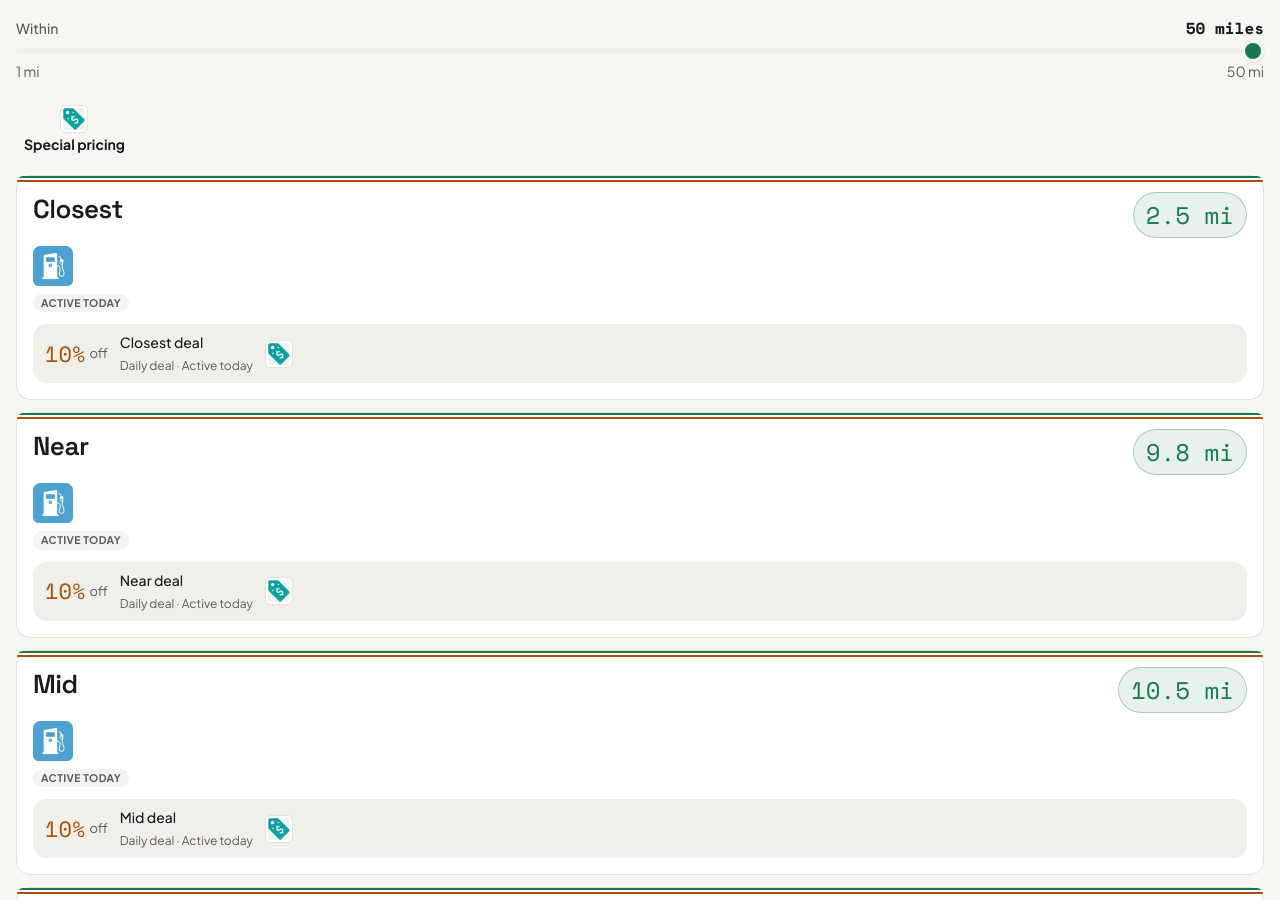
Test: DealFeed › distance filter › narrows the feed instantly on slider change without any network request
Set the slider to "10" at (250, 51), box [16,48,1264,54]
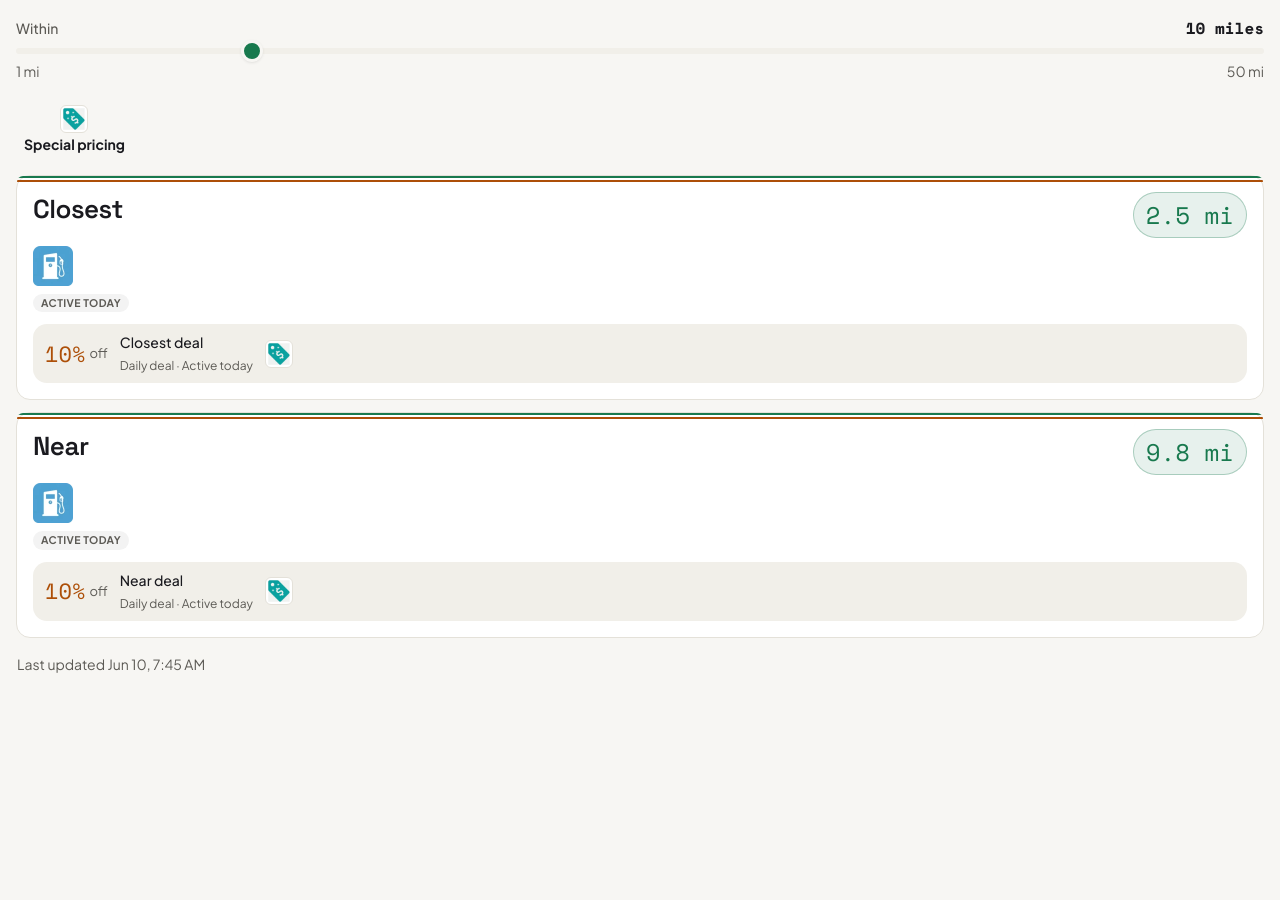
Expected: the text "Closest deal" is shown, [120,333,203,351]
Expected: the number of list items is 2, [16,175,1264,400]; [16,412,1264,638]
Expected: the text "Mid deal" is gone
